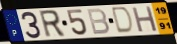3: (20, 10, 42, 40)
5: (66, 9, 89, 37)
B: (86, 8, 111, 36)
D: (111, 6, 135, 35)
H: (131, 5, 159, 34)
R: (38, 9, 67, 39)
